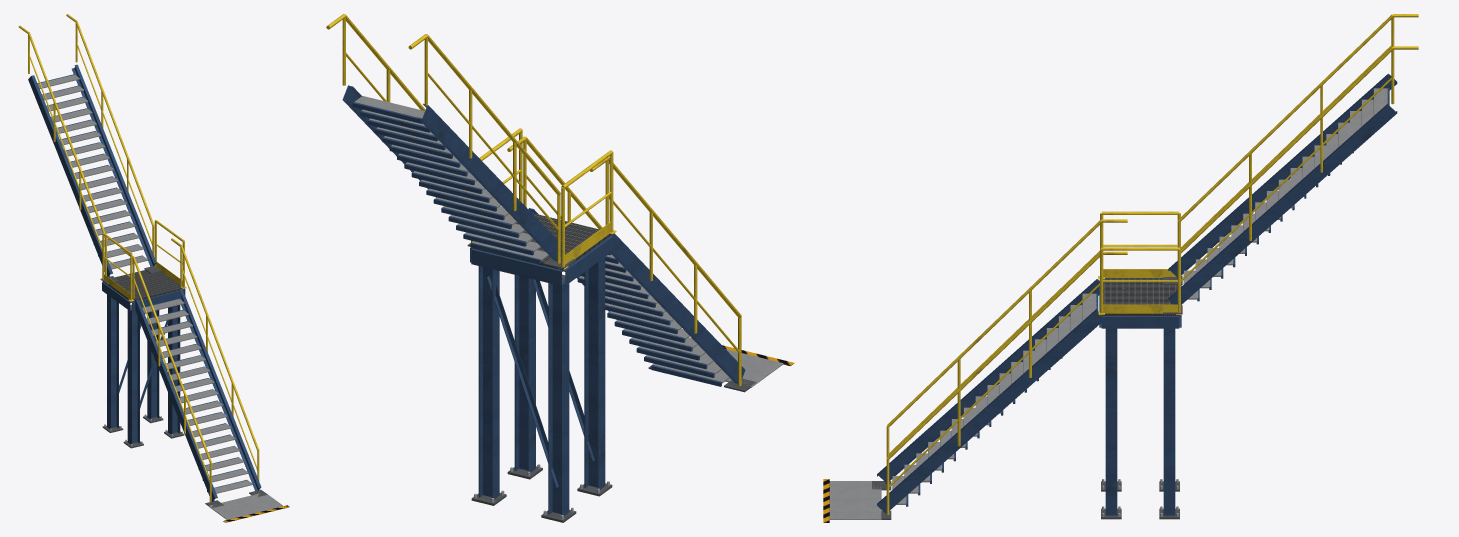
The model's file is stairs_ccm.glb.
3 views of the same model, side by side, from view 1: azimuth 30°, elevation 25°; view 2: azimuth 150°, elevation 25°; view 3: azimuth 270°, elevation 25° (orthographic). The views are drawn at different scales.
Parts seen in each view (by area): view 1: Stairs_CCM_geo; view 2: Stairs_CCM_geo; view 3: Stairs_CCM_geo.
Part boxes in pixels (left/top/right/bottom): Stairs_CCM_geo: left=18, top=14, right=289, bottom=522; Stairs_CCM_geo: left=326, top=14, right=794, bottom=522; Stairs_CCM_geo: left=823, top=14, right=1418, bottom=522.
Size of the model in its own units: 1.6 by 8.03 by 9.6.
Materials: 8 (7 with a texture image).
